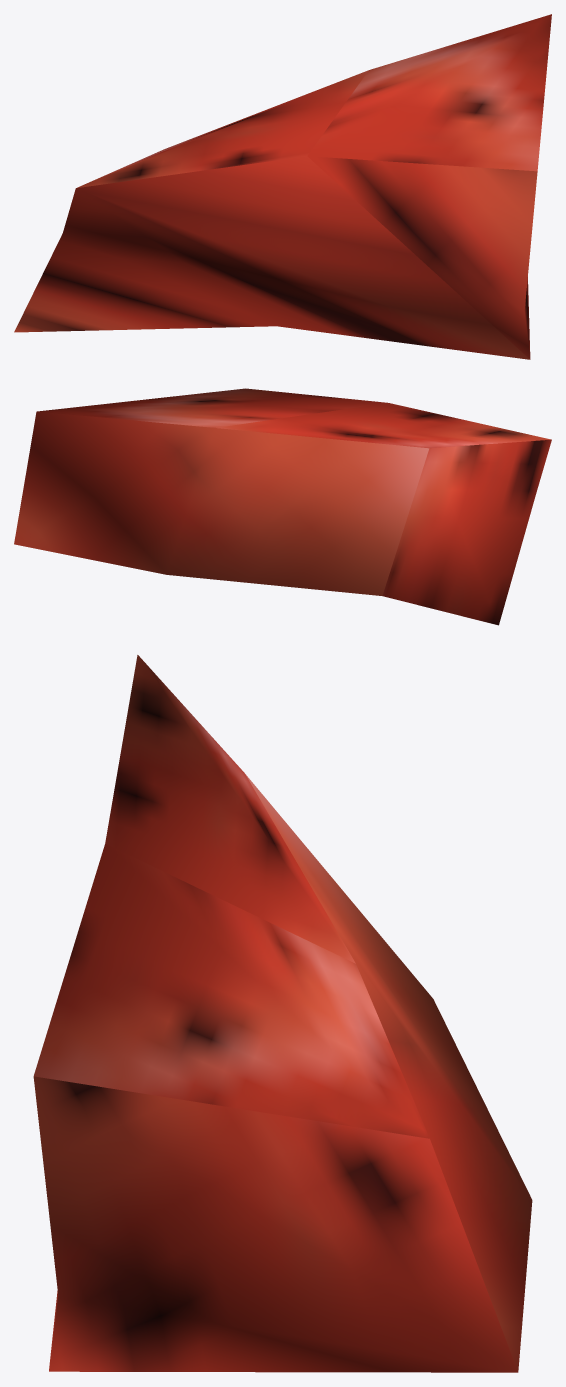
Rendered from Piece melon C.glb.
3 views of the same model, one above another, from view 1: azimuth 30°, elevation 25°; view 2: azimuth 150°, elevation 25°; view 3: azimuth 270°, elevation 25° (orthographic). The views are drawn at different scales.
Parts seen in each view (by area): view 1: Piece melon C; view 2: Piece melon C; view 3: Piece melon C.
Boxes of the visible parts, bbox=[...] form: Piece melon C: bbox=[14, 14, 551, 359]; Piece melon C: bbox=[14, 388, 551, 625]; Piece melon C: bbox=[33, 655, 532, 1372].
Bounding box in the file's own units: 0.2722 × 0.116 × 0.1328.
1 material, 1 textured.
